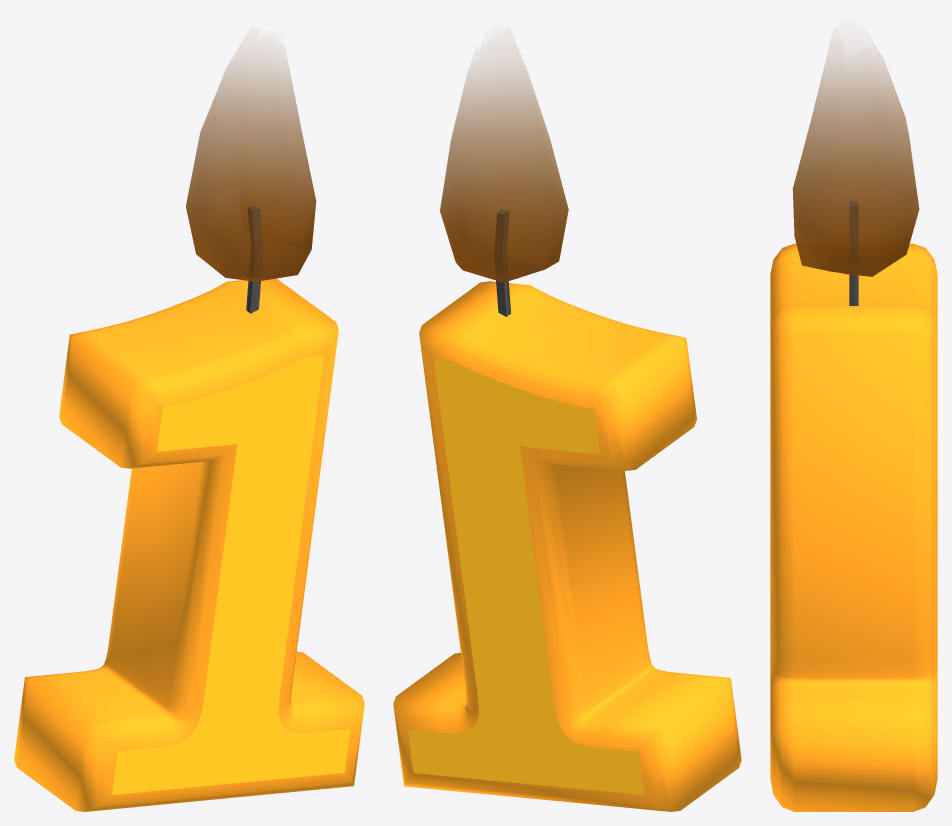
The model's file is cake_candle.glb.
3 renders of one model, left to right at view 1: azimuth 30°, elevation 25°; view 2: azimuth 150°, elevation 25°; view 3: azimuth 270°, elevation 25°, orthographic.
Parts seen in each view (by area): view 1: candle; view 2: candle; view 3: candle.
Part boxes in pixels (x1=…): candle: x1=14, y1=51, x2=364, y2=811; candle: x1=393, y1=56, x2=741, y2=811; candle: x1=770, y1=51, x2=937, y2=811.
Size of the model in its own units: 1.43 by 3.67 by 0.7227.
Materials: 3 (3 with a texture image).
